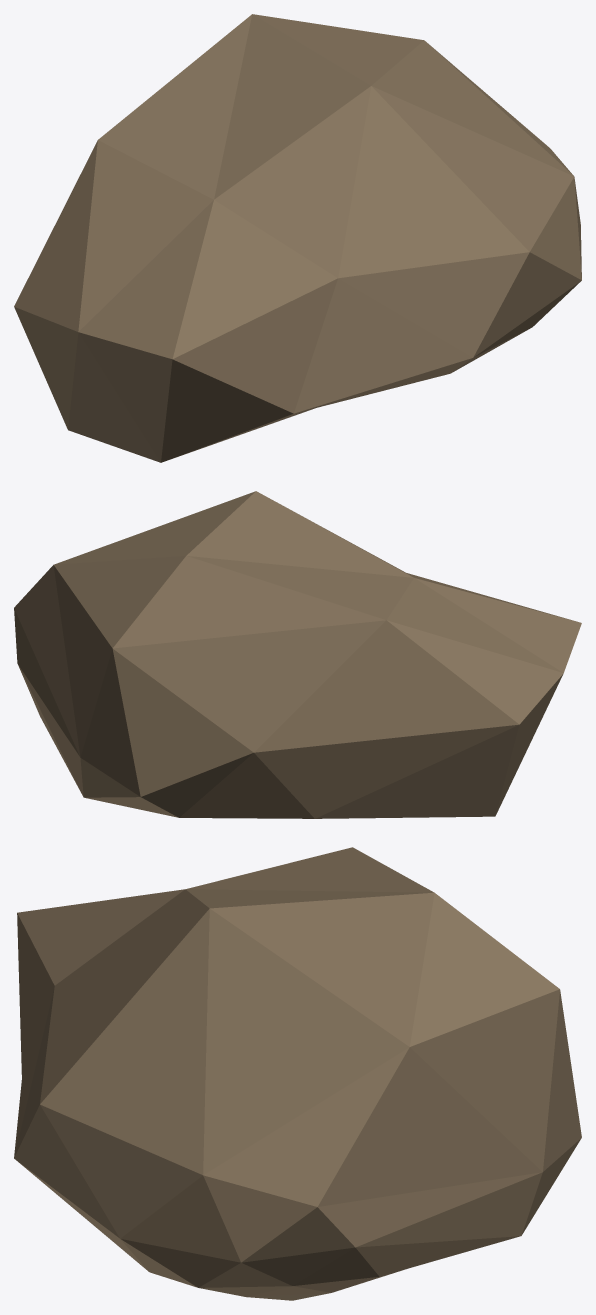
The model's file is P_Pedra4.fbx.
3 views of the same model, one above another, from view 1: azimuth 30°, elevation 25°; view 2: azimuth 150°, elevation 25°; view 3: azimuth 270°, elevation 25° (orthographic). The views are drawn at different scales.
Visible parts, largest first — view 1: Icosphere.002; view 2: Icosphere.002; view 3: Icosphere.002.
Part boxes in pixels (x1,y1,x2,y2): Icosphere.002: [14, 14, 581, 462]; Icosphere.002: [14, 491, 581, 818]; Icosphere.002: [14, 847, 581, 1300].
Size of the model in its own units: 1323 by 712 by 1035.
